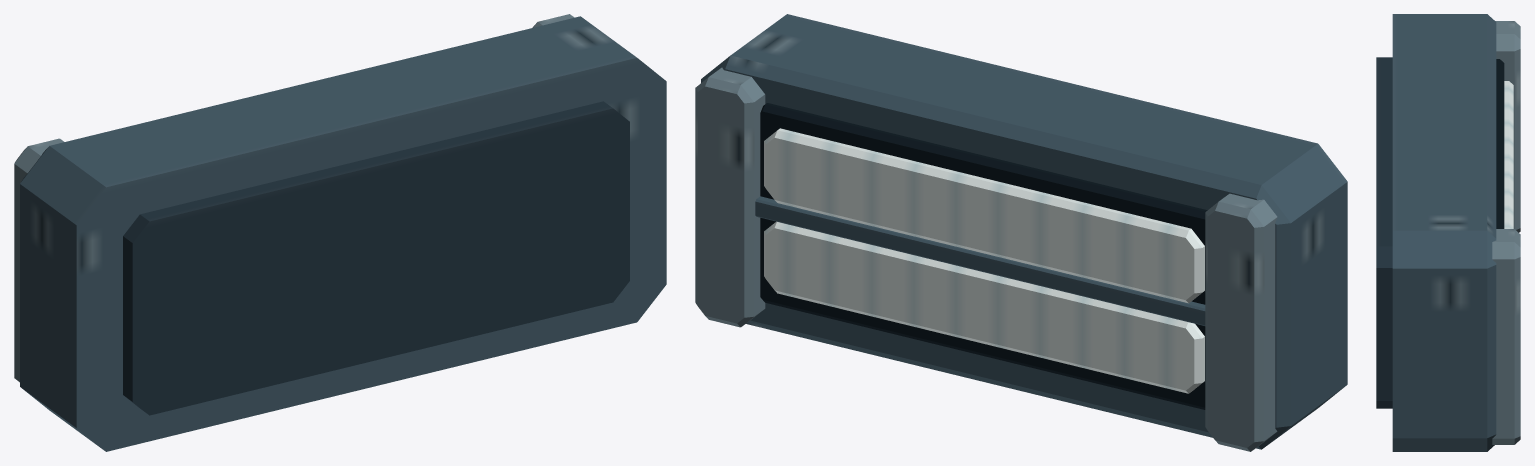
Rendered from ship_light.obj.
3 views of the same model, side by side, from view 1: azimuth 30°, elevation 25°; view 2: azimuth 150°, elevation 25°; view 3: azimuth 270°, elevation 25° (orthographic). The views are drawn at different scales.
Visible parts, largest first — view 1: wall_mount, cut_corner_housing, retaining_endcap_1_25; view 2: cut_corner_housing, diffuser_8_2, diffuser_6_15, recessed_diffuser_bed, retaining_endcap_1_25, retaining_endcap_13_35, central_baffle; view 3: cut_corner_housing, wall_mount, retaining_endcap_13_35, retaining_endcap_1_25, recessed_diffuser_bed, diffuser_8_2.
Part boxes in pixels (<box>): wall_mount: <box>123,101,629,415</box>; cut_corner_housing: <box>20,16,666,451</box>; retaining_endcap_1_25: <box>14,138,64,382</box>; cut_corner_housing: <box>701,14,1347,449</box>; diffuser_8_2: <box>764,128,1204,303</box>; diffuser_6_15: <box>764,221,1204,393</box>; recessed_diffuser_bed: <box>760,103,1207,409</box>; retaining_endcap_1_25: <box>1205,193,1277,451</box>; retaining_endcap_13_35: <box>695,67,765,327</box>; central_baffle: <box>755,196,1205,325</box>; cut_corner_housing: <box>1392,14,1496,451</box>; wall_mount: <box>1376,57,1392,408</box>; retaining_endcap_13_35: <box>1492,229,1520,444</box>; retaining_endcap_1_25: <box>1495,21,1520,232</box>; recessed_diffuser_bed: <box>1496,59,1504,228</box>; diffuser_8_2: <box>1504,81,1513,228</box>.
Bounding box in the file's own units: 0.875 × 0.375 × 0.2219.
